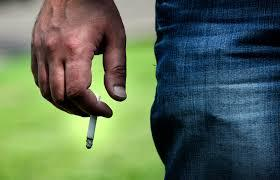smoke: (86, 96, 101, 150)
